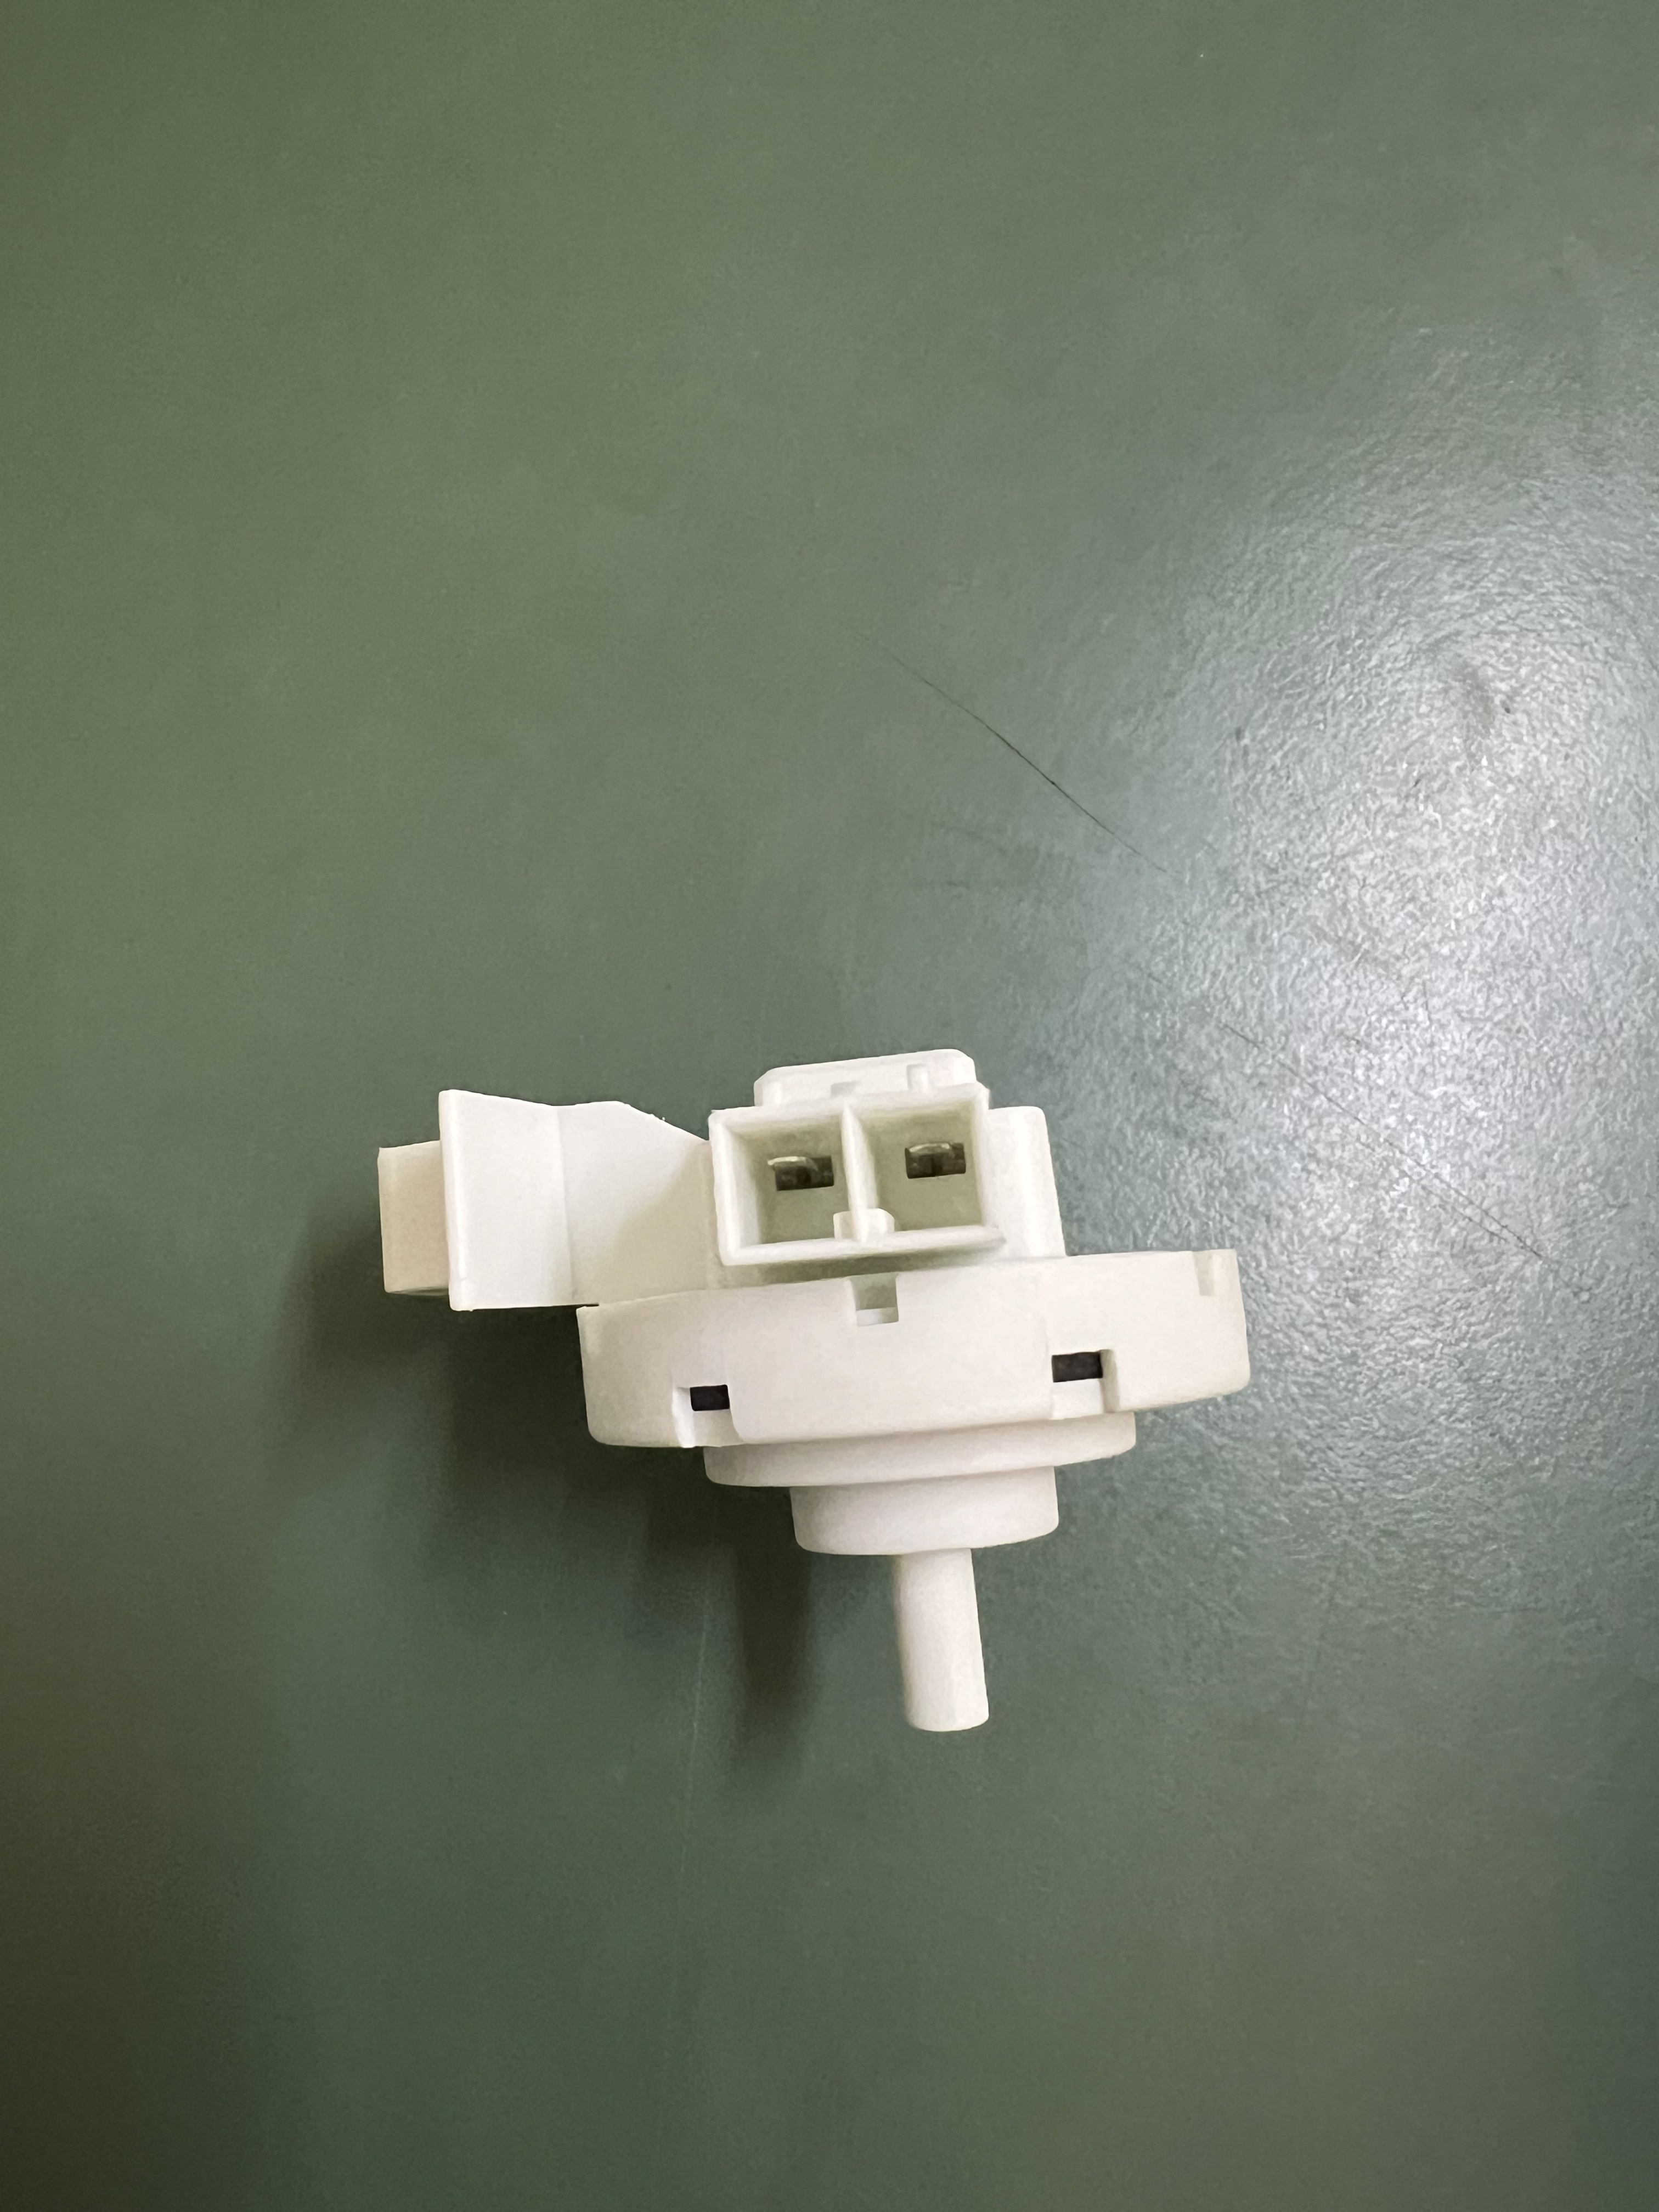pressure_switch_2: (314, 1057, 1274, 1825)
